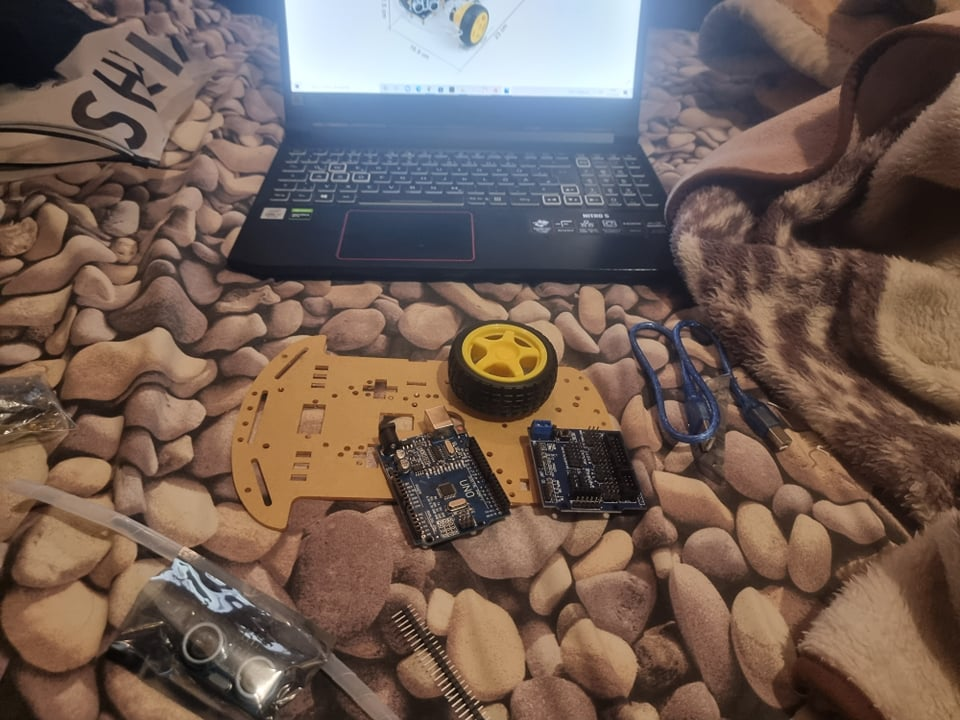5V EXPANSION: (526, 419, 646, 513)
SENSOR: (181, 621, 291, 710)
UNO R3: (372, 404, 514, 551)
